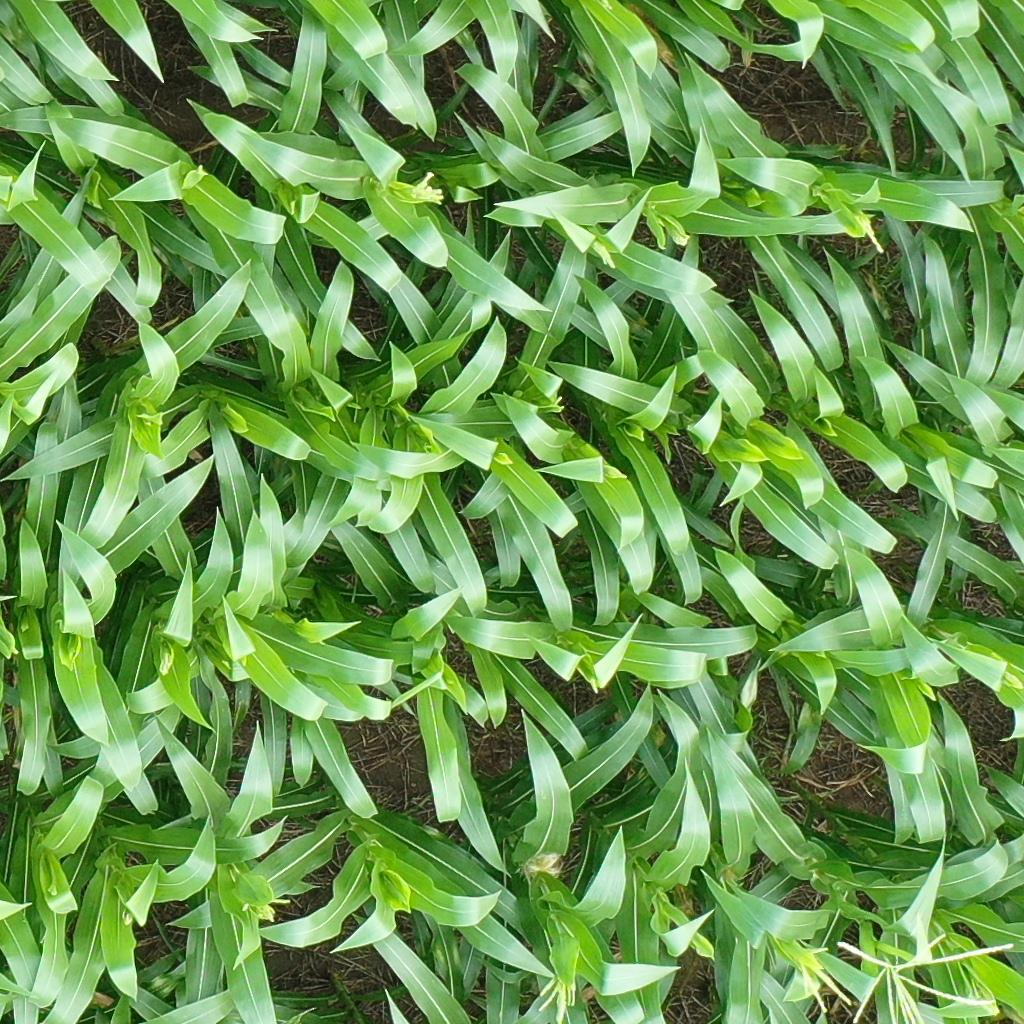Tassel: (785, 938, 1015, 1024), (534, 967, 581, 1024), (849, 204, 884, 257), (408, 172, 446, 208), (241, 900, 294, 925), (590, 238, 619, 270), (149, 644, 176, 677)
